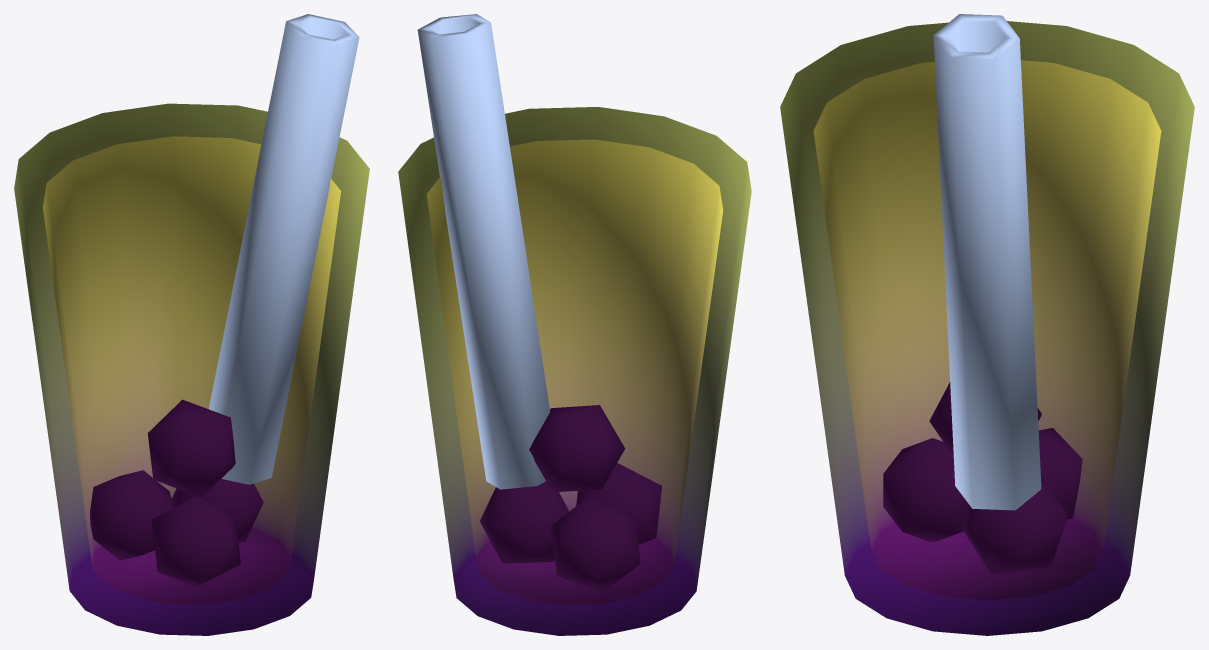
The model's file is BobaTea.gltf.
3 views of the same model, side by side, from view 1: azimuth 30°, elevation 25°; view 2: azimuth 150°, elevation 25°; view 3: azimuth 270°, elevation 25° (orthographic). The views are drawn at different scales.
Visible parts, largest first — view 1: BobaTea, Straw, TapiokaBalls; view 2: BobaTea, Straw, TapiokaBalls; view 3: BobaTea, Straw, TapiokaBalls.
Part boxes in pixels (x1,y1,x2,y2): BobaTea: [14, 103, 369, 635]; Straw: [209, 14, 359, 484]; TapiokaBalls: [90, 399, 263, 586]; BobaTea: [398, 107, 751, 635]; Straw: [417, 14, 550, 489]; TapiokaBalls: [480, 405, 661, 591]; BobaTea: [780, 21, 1194, 635]; Straw: [933, 14, 1041, 510]; TapiokaBalls: [883, 382, 1082, 574].
Bounding box in the file's own units: 1.79 × 2.93 × 1.79.
